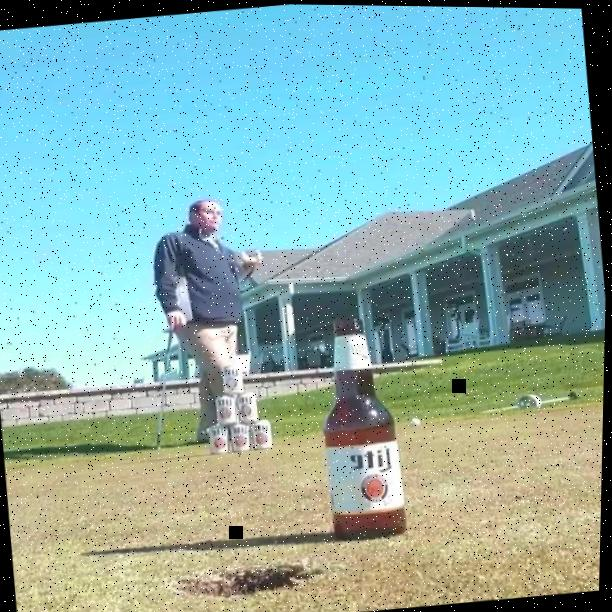GolfBall: (411, 415, 424, 424)
